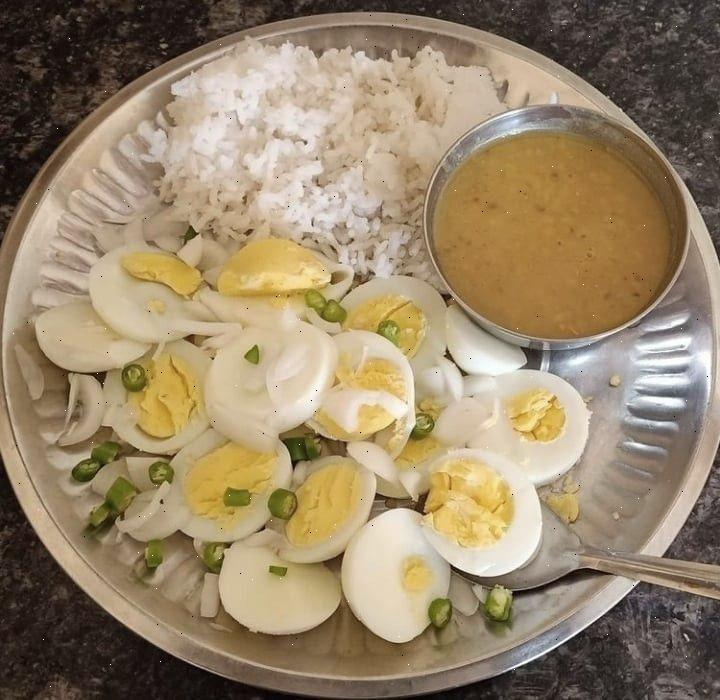daal: (470, 97, 652, 319)
eggs: (60, 252, 582, 625)
rice: (150, 56, 446, 215)
